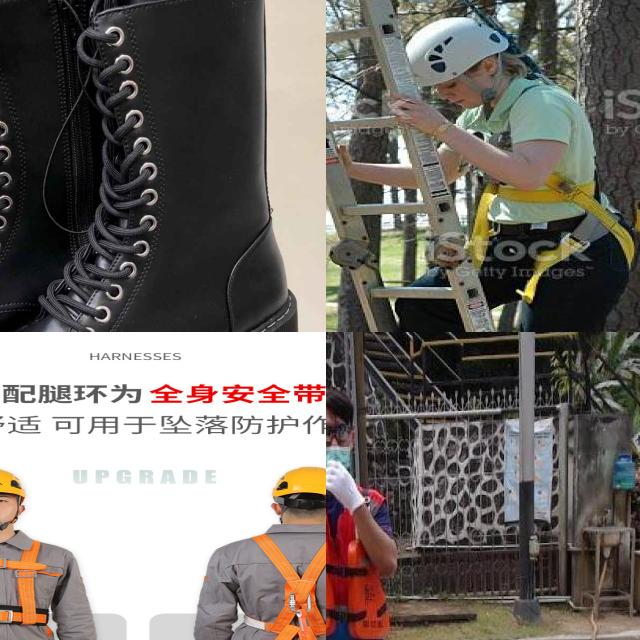Harness: (466, 90, 624, 282), (239, 531, 326, 640), (0, 539, 66, 638)
Sandals: (0, 0, 318, 332)
person: (326, 384, 444, 640)
vest: (326, 481, 396, 640)
